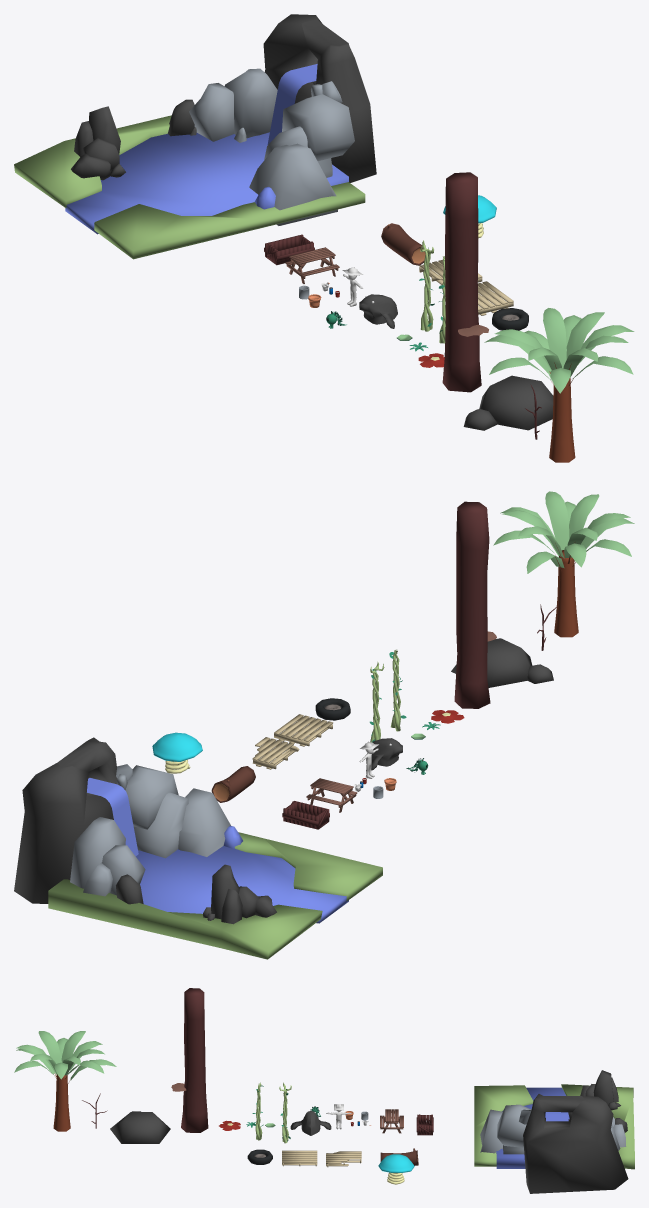
Rendered from Capstone Master File.fbx.
3 renders of one model, top to bottom at view 1: azimuth 30°, elevation 25°; view 2: azimuth 150°, elevation 25°; view 3: azimuth 270°, elevation 25°, orthographic. The views are drawn at different scales.
Visible parts, largest first — view 1: water pond, ground, big rock, 2 rock.002, bigTree, Palm, ROCK.001, 2 rock, tall rock.002, small rock, water, tall rock.001 (+8 smaller); view 2: ground, 2 rock.002, water pond, big rock, bigTree, Palm, 2 rock, tall rock.002, ROCK.001, tall rock.001, water, Bounce Mushroom (+8 smaller); view 3: 2 rock.002, ground, bigTree, Palm, big rock, ROCK.001, water pond, Bounce Mushroom, tall rock.001, Palette, Dugong, Palette Broken (+4 smaller).
Boxes of the visible parts, box(x1,y1,x2,y2) form: water pond: box(65, 132, 348, 234); ground: box(14, 115, 365, 259); big rock: box(249, 81, 354, 225); 2 rock.002: box(263, 14, 376, 182); bigTree: box(442, 172, 481, 392); Palm: box(484, 308, 634, 462); ROCK.001: box(479, 375, 553, 430); 2 rock: box(224, 68, 277, 142); tall rock.002: box(189, 83, 234, 141); small rock: box(71, 138, 125, 180); water: box(267, 64, 317, 144); tall rock.001: box(74, 106, 120, 156); ground: box(48, 832, 382, 959); 2 rock.002: box(14, 737, 117, 903); water pond: box(136, 825, 348, 923); big rock: box(113, 764, 230, 858); bigTree: box(454, 501, 490, 708); Palm: box(493, 491, 634, 637); 2 rock: box(70, 817, 125, 888); tall rock.002: box(83, 845, 145, 896); ROCK.001: box(451, 638, 532, 687); tall rock.001: box(211, 864, 242, 924); water: box(87, 778, 138, 856); Bounce Mushroom: box(152, 732, 202, 773); 2 rock.002: box(523, 1094, 628, 1193); ground: box(474, 1084, 634, 1169); bigTree: box(181, 988, 208, 1132); Palm: box(14, 1031, 116, 1131); big rock: box(480, 1104, 531, 1154); ROCK.001: box(110, 1112, 170, 1143); water pond: box(496, 1087, 569, 1168); Bounce Mushroom: box(378, 1154, 414, 1184); tall rock.001: box(593, 1070, 618, 1105); Palette: box(282, 1150, 317, 1166); Dugong: box(290, 1111, 331, 1135); Palette Broken: box(326, 1151, 361, 1167).
Size of the model in its own units: 2314 by 1662 by 6246.
Materials: 11 (2 with a texture image).
